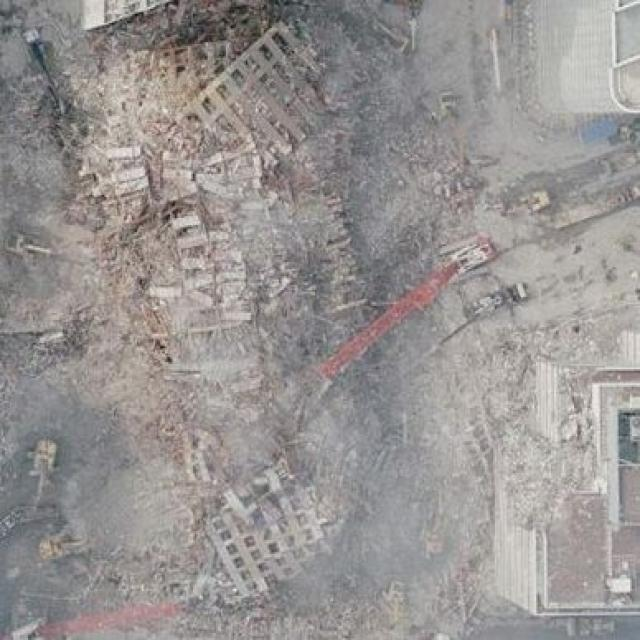collapsed_building: (68, 9, 374, 589)
